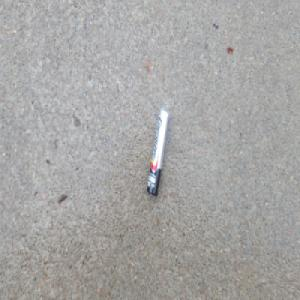Battery: (146, 109, 169, 198)
